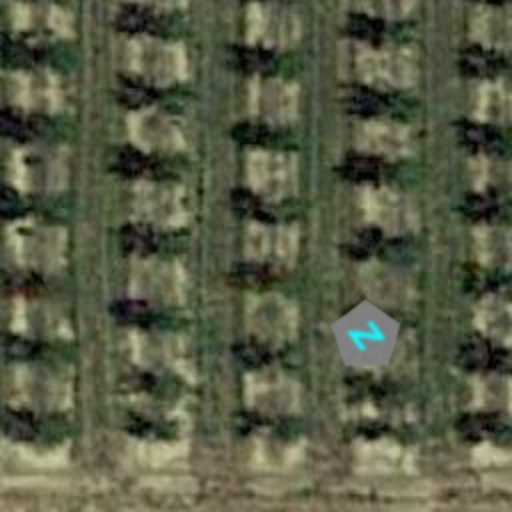pentagon: (314, 284, 418, 388)
